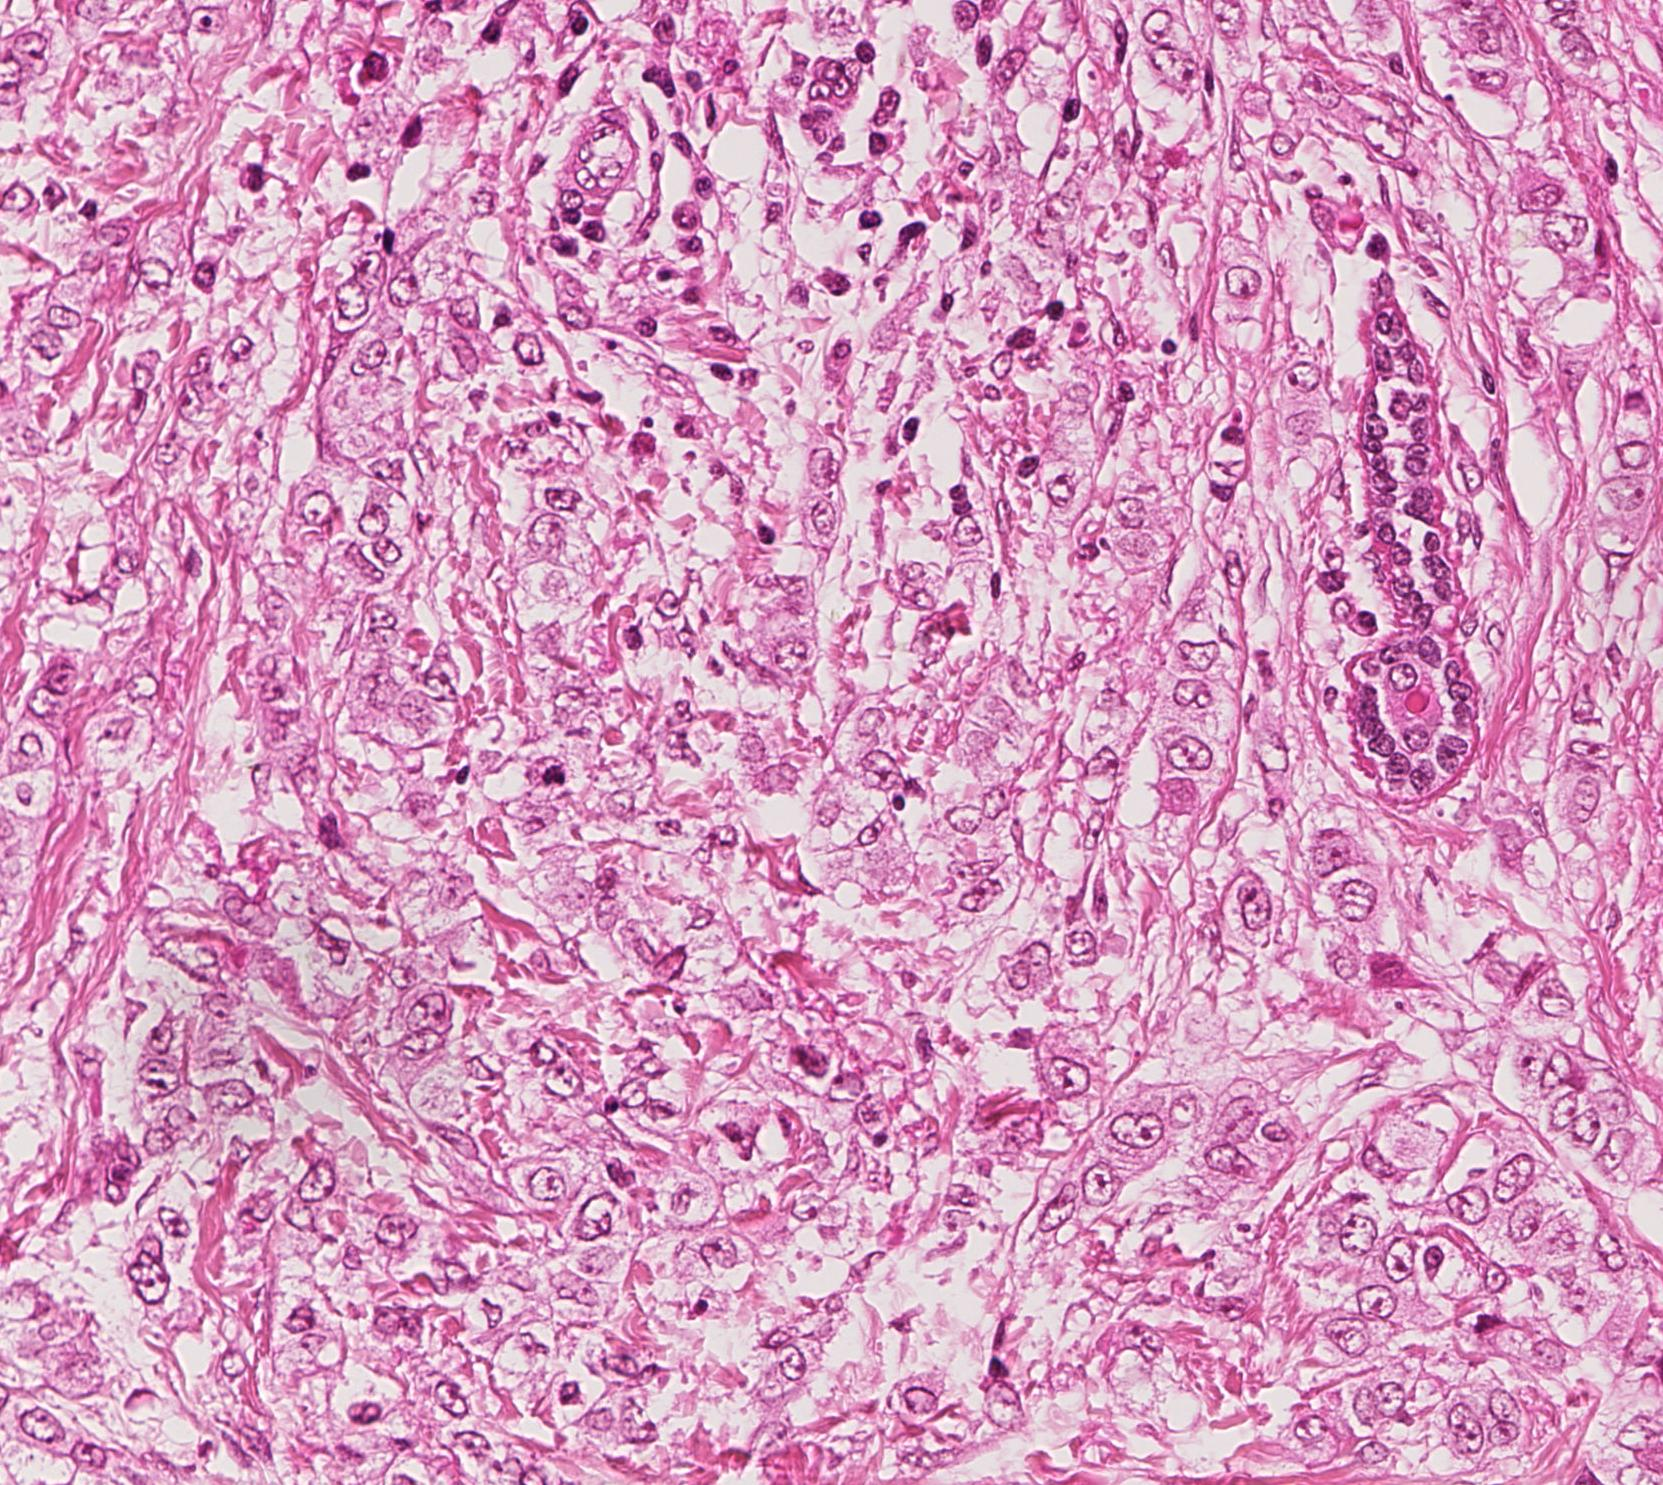mitosis: (525, 744, 583, 804)
